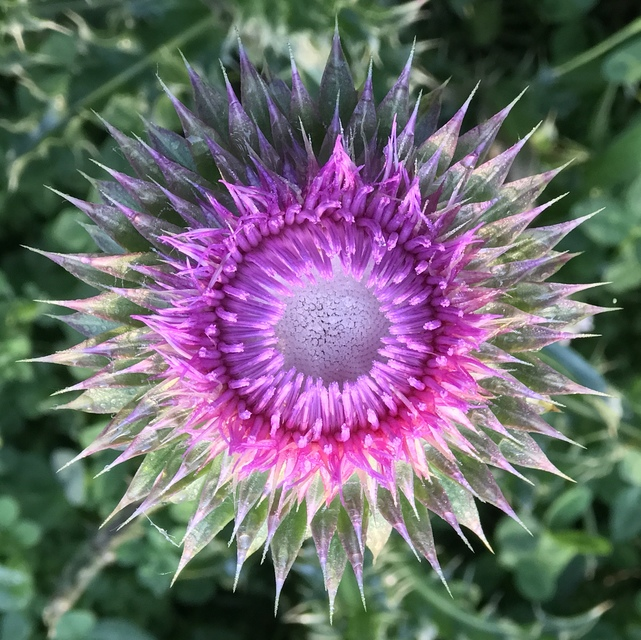thistle: (73, 28, 613, 598)
